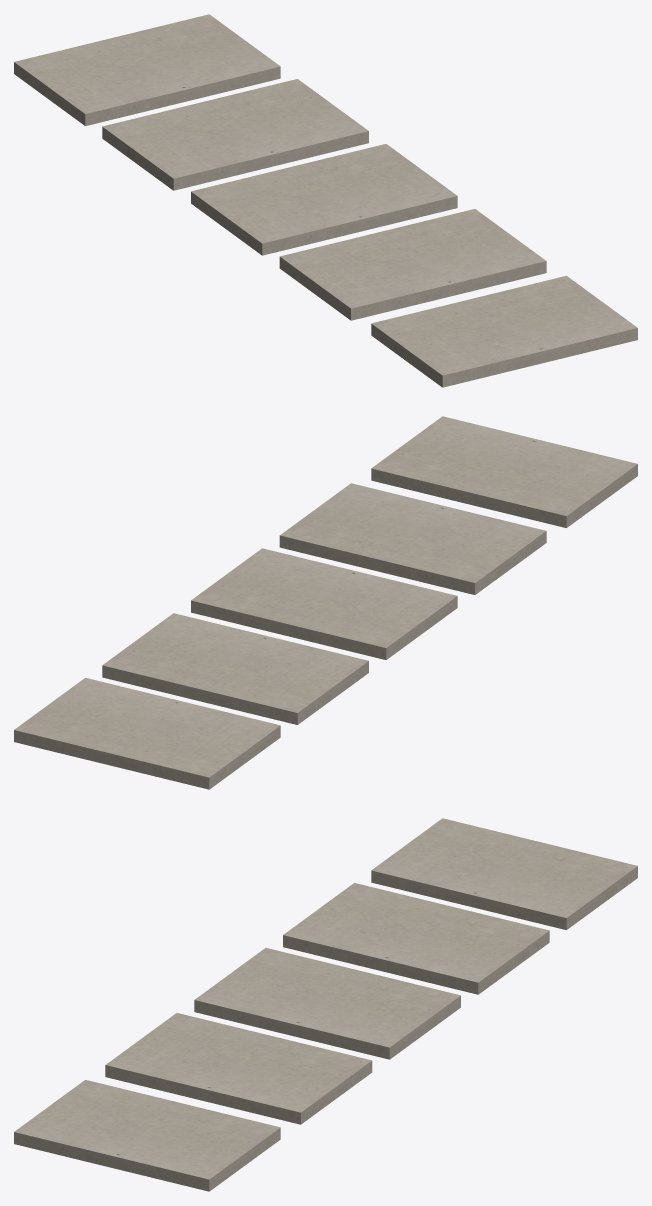
Rendered from asphalt.glb.
The picture shows the model from 3 angles, top to bottom: view 1: azimuth 30°, elevation 25°; view 2: azimuth 150°, elevation 25°; view 3: azimuth 330°, elevation 25°; orthographic projection.
Visible parts, largest first — view 1: Asphalt; view 2: Asphalt; view 3: Asphalt.
Boxes of the visible parts, bbox=[...] form: Asphalt: bbox=[14, 14, 637, 387]; Asphalt: bbox=[14, 416, 637, 789]; Asphalt: bbox=[14, 818, 637, 1191].
Size of the model in its own units: 1.78 by 0.1051 by 6.76.
1 material, 1 textured.
